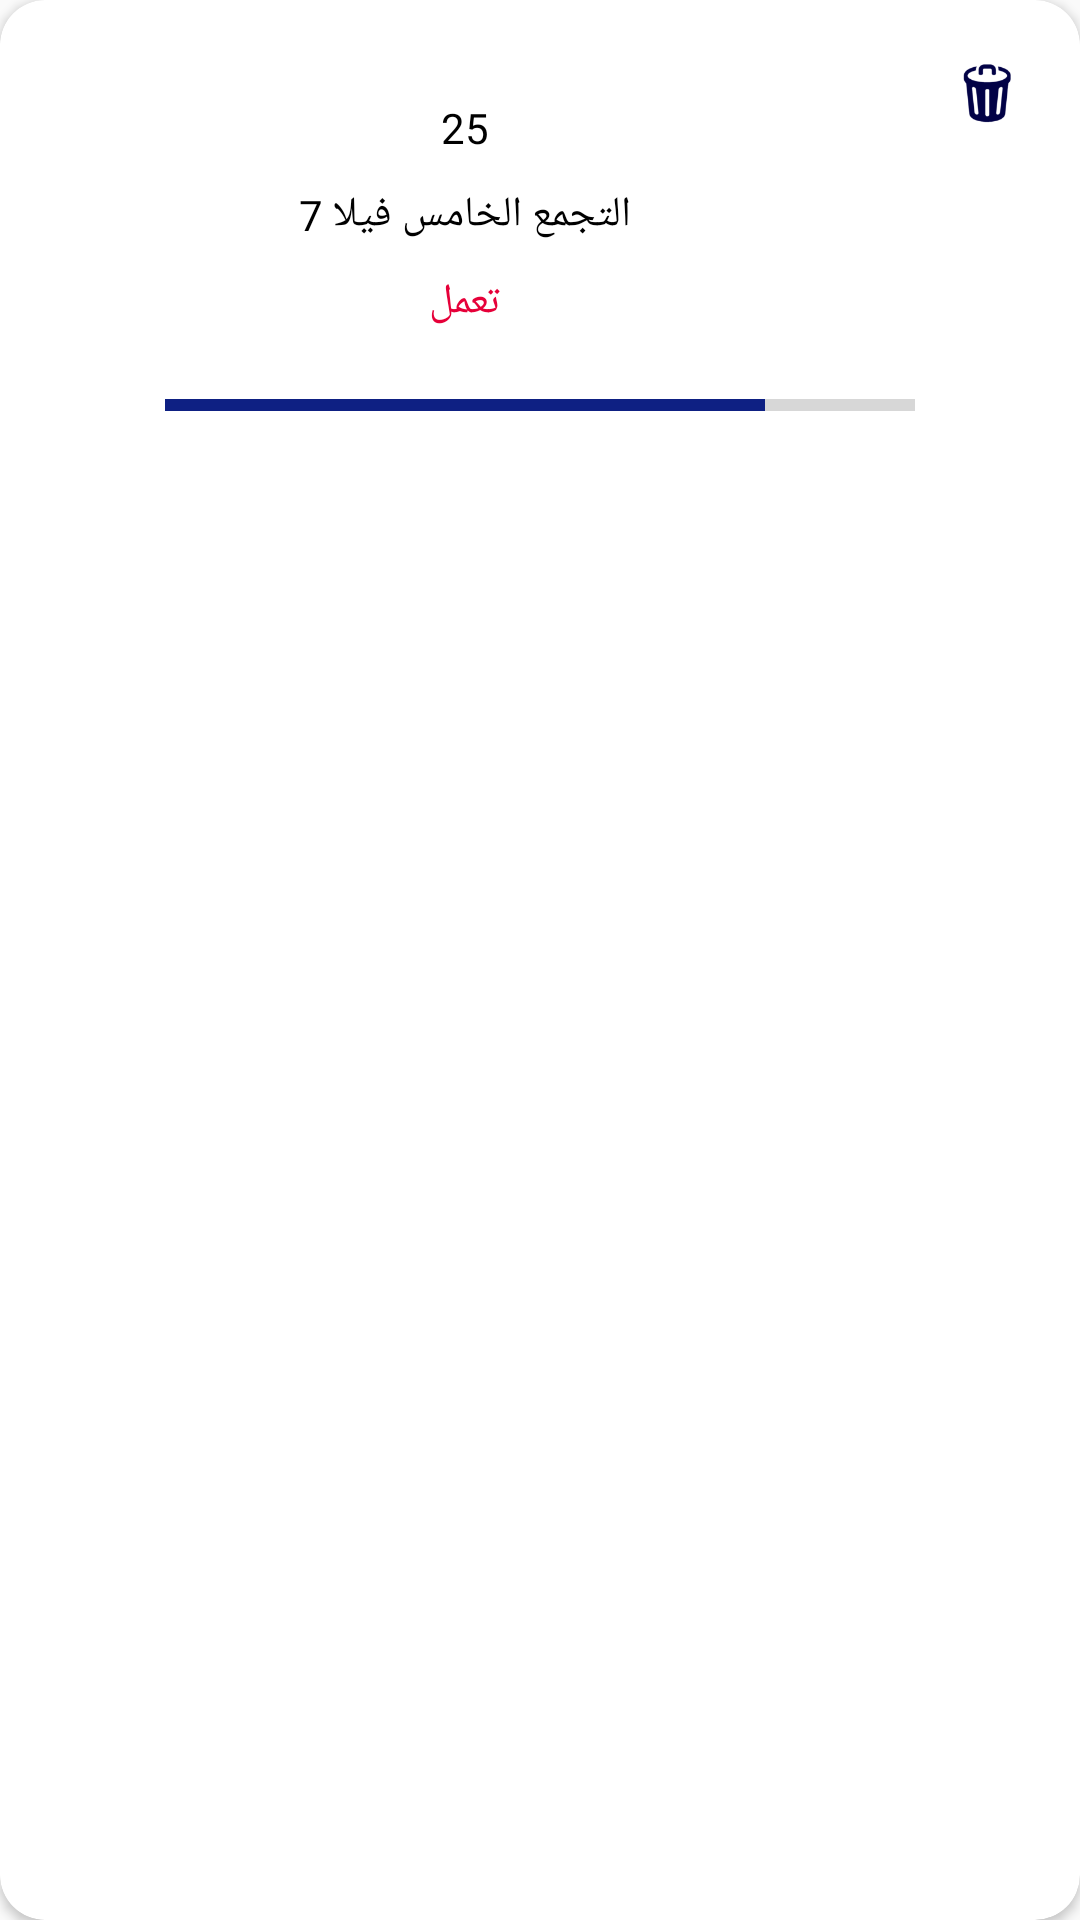

Locate icon controls on the screen. Image size 1080x1920, boxes as box=[x1, y1, x2, y2].
trash: box=[963, 64, 1011, 122]
